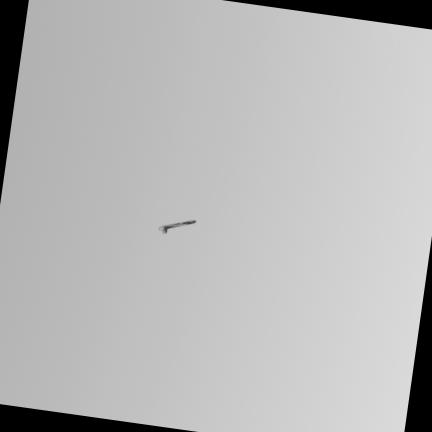Shahed: (160, 220, 195, 233)
